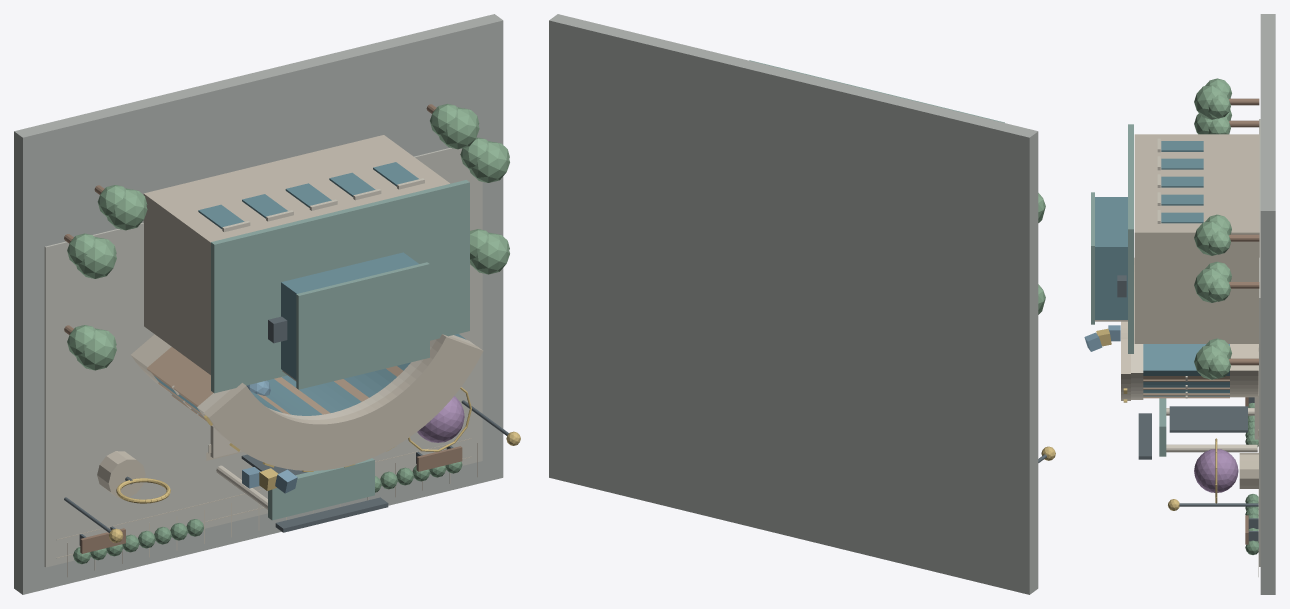
File: museum-of-oddities.glb
3 views of the same model, side by side, from view 1: azimuth 30°, elevation 25°; view 2: azimuth 150°, elevation 25°; view 3: azimuth 270°, elevation 25° (orthographic). The views are drawn at different scales.
Visible parts, largest first — view 1: city_plinth_0000, pedestrian_square_0001, rear_roof_0171, rear_gallery_0170, roof_lantern_cap_0194, entrance_canopy_0189, roof_lantern_0193, curved_glazed_gallery_0003, left_pedestal_0200, sign_plaque_0192, curious_planet_0231, tree_canopy_0263 (+8 smaller); view 2: city_plinth_0000; view 3: rear_gallery_0170, city_plinth_0000, roof_lantern_0193, entrance_glass_doors_0186, curved_glazed_gallery_0167, curious_planet_0231, rear_roof_0171, pedestrian_square_0001, portico_column_0191, curved_sandstone_lower_0166, right_pedestal_0201, sign_plaque_0192 (+22 smaller).
Boxes of the visible parts, bbox=[...] form: city_plinth_0000: bbox=[14, 14, 503, 594]; pedestrian_square_0001: bbox=[44, 147, 482, 567]; rear_roof_0171: bbox=[211, 180, 469, 393]; rear_gallery_0170: bbox=[143, 135, 449, 374]; roof_lantern_cap_0194: bbox=[296, 262, 429, 389]; entrance_canopy_0189: bbox=[268, 458, 374, 520]; roof_lantern_0193: bbox=[281, 252, 418, 379]; curved_glazed_gallery_0003: bbox=[148, 347, 213, 406]; left_pedestal_0200: bbox=[97, 451, 145, 497]; sign_plaque_0192: bbox=[275, 497, 388, 532]; curious_planet_0231: bbox=[417, 396, 464, 442]; tree_canopy_0263: bbox=[76, 328, 116, 370]; city_plinth_0000: bbox=[549, 14, 1038, 594]; rear_gallery_0170: bbox=[1134, 134, 1259, 343]; city_plinth_0000: bbox=[1260, 14, 1275, 594]; roof_lantern_0193: bbox=[1095, 197, 1127, 319]; entrance_glass_doors_0186: bbox=[1169, 406, 1247, 432]; curved_glazed_gallery_0167: bbox=[1143, 344, 1229, 375]; curious_planet_0231: bbox=[1194, 449, 1238, 492]; rear_roof_0171: bbox=[1128, 124, 1133, 353]; pedestrian_square_0001: bbox=[1259, 119, 1260, 566]; portico_column_0191: bbox=[1166, 444, 1257, 452]; curved_sandstone_lower_0166: bbox=[1230, 344, 1258, 375]; right_pedestal_0201: bbox=[1239, 453, 1258, 488]; sign_plaque_0192: bbox=[1138, 413, 1151, 459].
Size of the model in its own units: 22 by 20 by 9.03.
